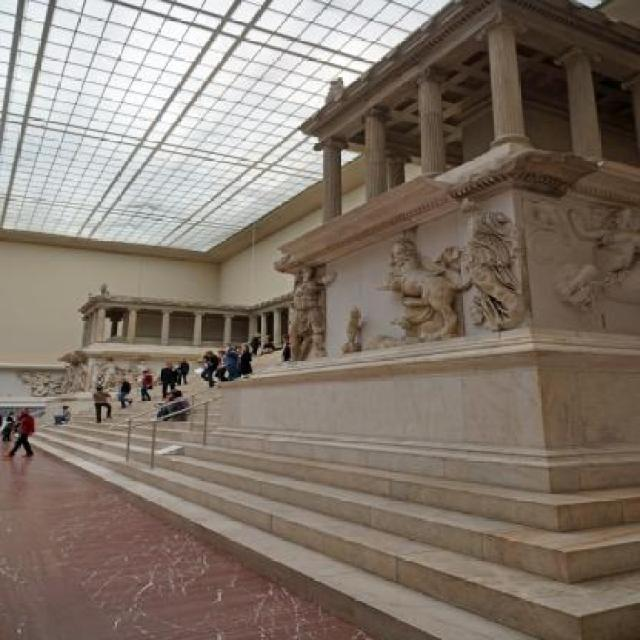stair: (12, 346, 640, 640)
